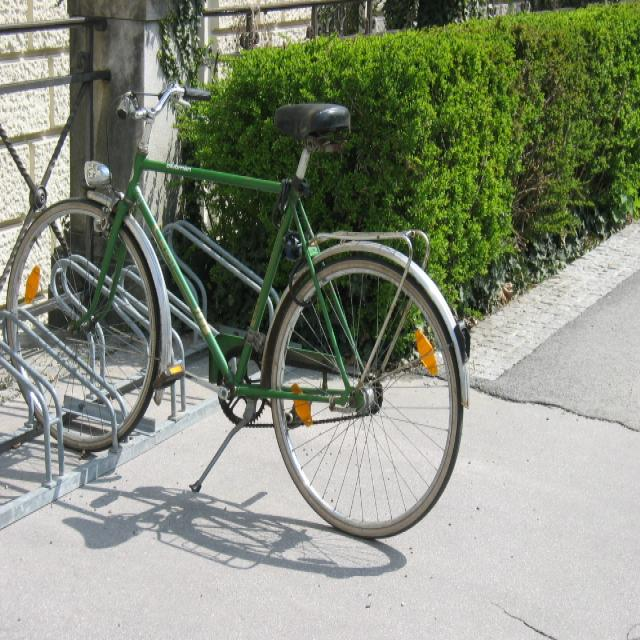bicycle: (0, 81, 470, 539)
